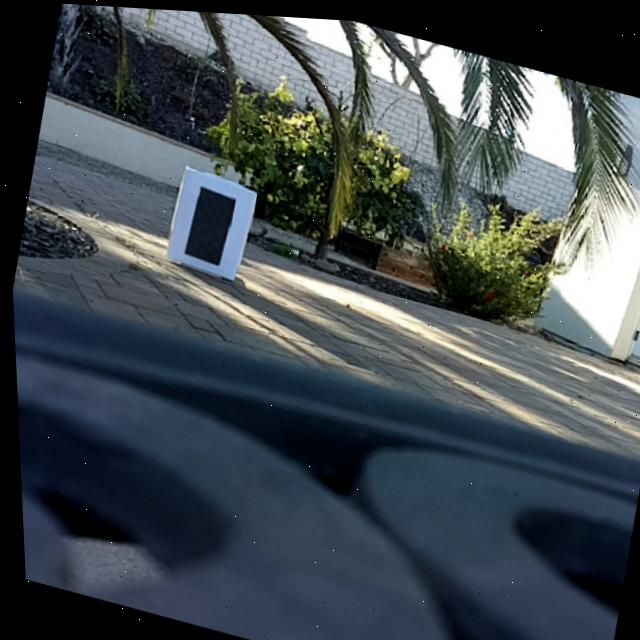led: (178, 178, 239, 267)
